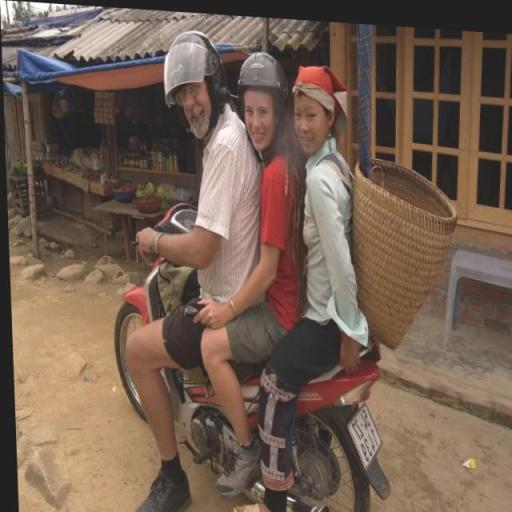tripple riding: (153, 24, 370, 475)
